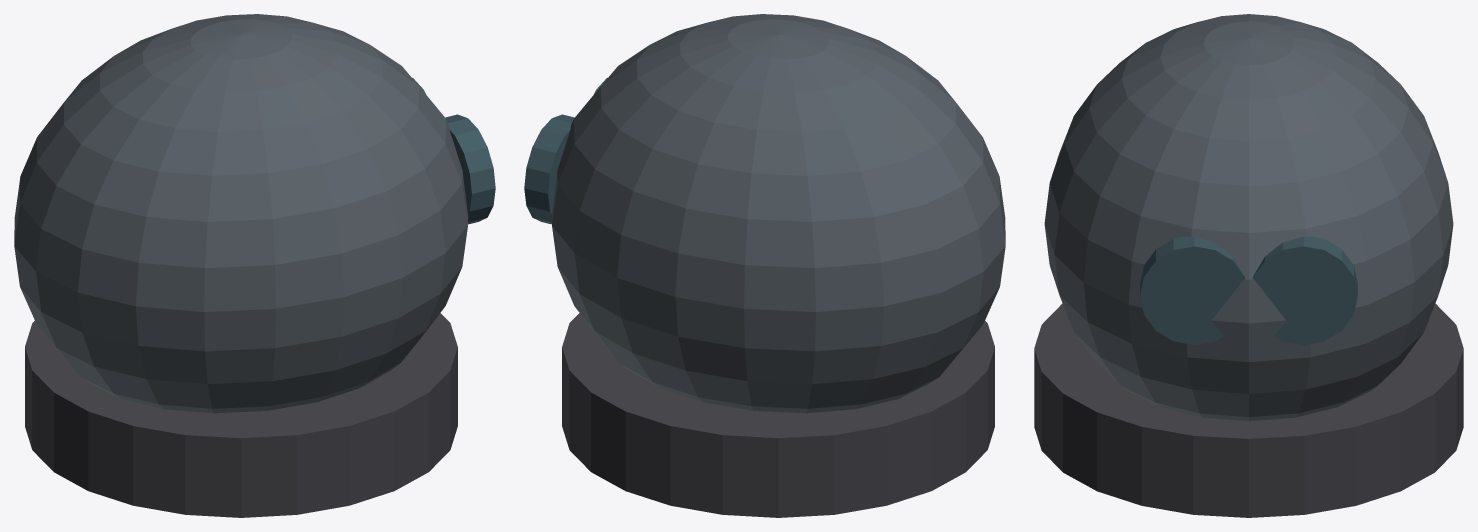
The model's file is GEN_EOIR_T5_LOD0.fbx.
3 renders of one model, left to right at view 1: azimuth 30°, elevation 25°; view 2: azimuth 150°, elevation 25°; view 3: azimuth 270°, elevation 25°, orthographic.
Visible parts, largest first — view 1: SEN_GEN_EOIR_T5_LOD0; view 2: SEN_GEN_EOIR_T5_LOD0; view 3: SEN_GEN_EOIR_T5_LOD0.
Part boxes in pixels (box(x1,y1,x2,y2)): SEN_GEN_EOIR_T5_LOD0: box(14, 14, 495, 517); SEN_GEN_EOIR_T5_LOD0: box(524, 14, 1005, 517); SEN_GEN_EOIR_T5_LOD0: box(1034, 14, 1463, 517).
Size of the model in its own units: 0.8625 by 0.7875 by 0.7862.
